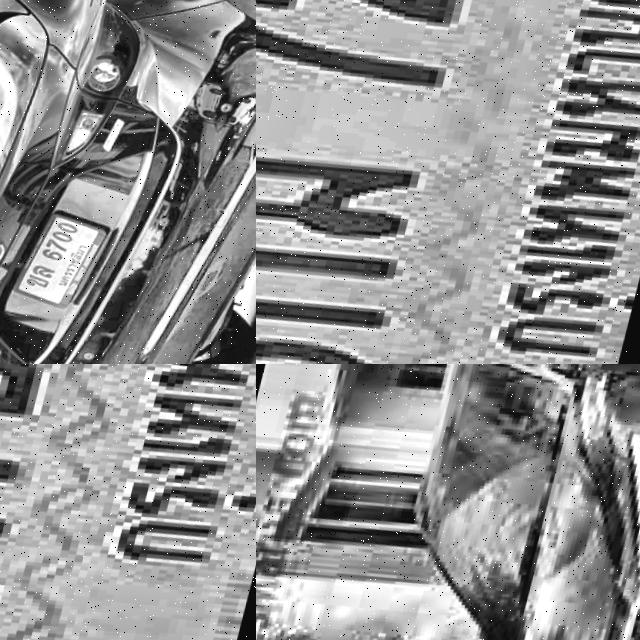license-plate: (256, 0, 640, 364), (0, 364, 256, 640), (9, 203, 129, 323)
